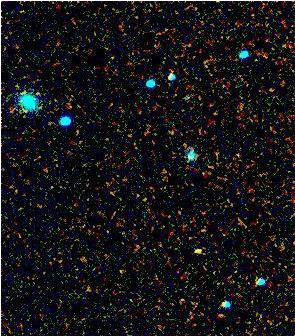star: (179, 234, 209, 264)
